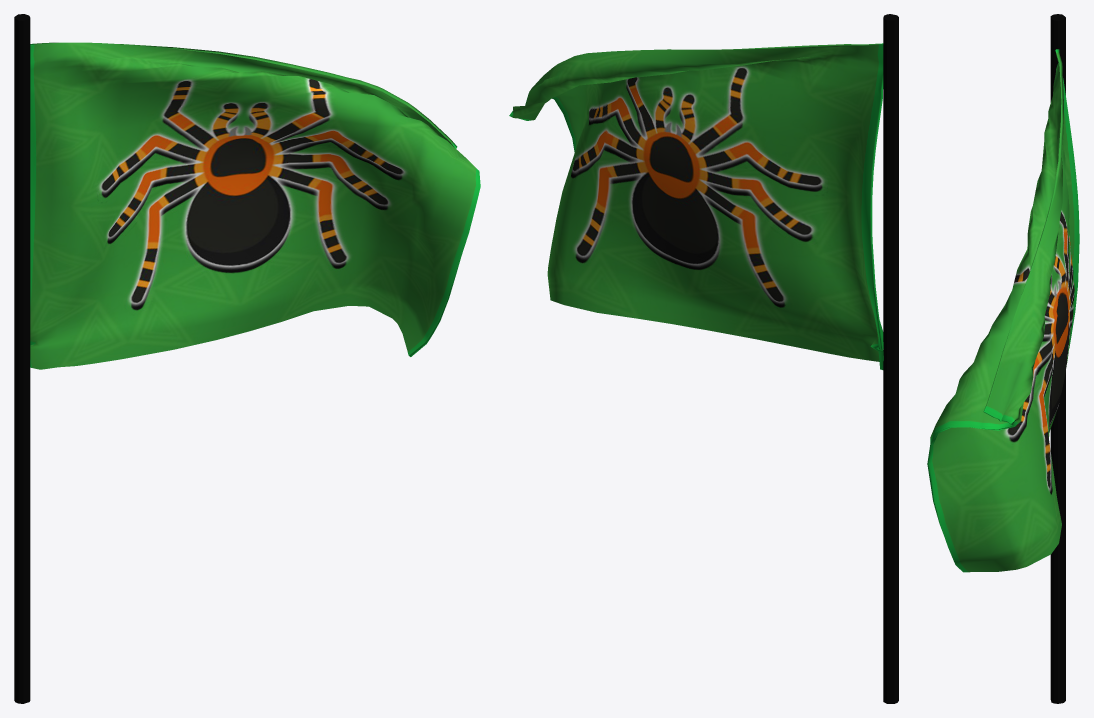
Rendered from flag.fbx.
3 views of the same model, side by side, from view 1: azimuth 30°, elevation 25°; view 2: azimuth 150°, elevation 25°; view 3: azimuth 270°, elevation 25° (orthographic).
Parts seen in each view (by area): view 1: tr flag1, Cylinder1; view 2: tr flag1, Cylinder1; view 3: tr flag1, Cylinder1.
Boxes of the visible parts, x1,y1,x2,y2 form: tr flag1: (30,42,480,369); Cylinder1: (14,14,30,703); tr flag1: (509,43,883,369); Cylinder1: (883,14,898,703); tr flag1: (927,49,1079,572); Cylinder1: (1050,14,1065,703).
Bounding box in the file's own units: 132 × 210 × 42.43.
Materials: 2 (1 with a texture image).
